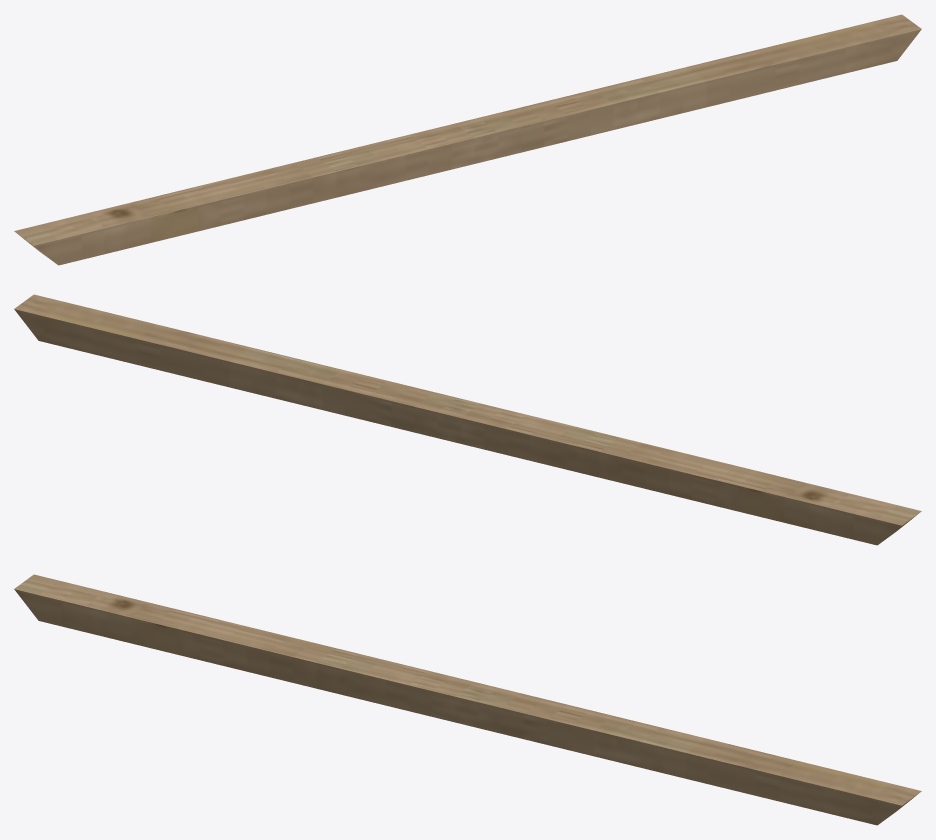
File: Joglo_part_237.fbx
3 views of the same model, one above another, from view 1: azimuth 30°, elevation 25°; view 2: azimuth 150°, elevation 25°; view 3: azimuth 330°, elevation 25° (orthographic).
Visible parts, largest first — view 1: Mesh307_Wood___Pine_Grained_Horizontal_0.001; view 2: Mesh307_Wood___Pine_Grained_Horizontal_0.001; view 3: Mesh307_Wood___Pine_Grained_Horizontal_0.001.
Part boxes in pixels (<box>): Mesh307_Wood___Pine_Grained_Horizontal_0.001: <box>14,14,921,265</box>; Mesh307_Wood___Pine_Grained_Horizontal_0.001: <box>14,294,921,545</box>; Mesh307_Wood___Pine_Grained_Horizontal_0.001: <box>14,574,921,825</box>.
Bounding box in the file's own units: 35.43 × 0.9842 × 1.38.
